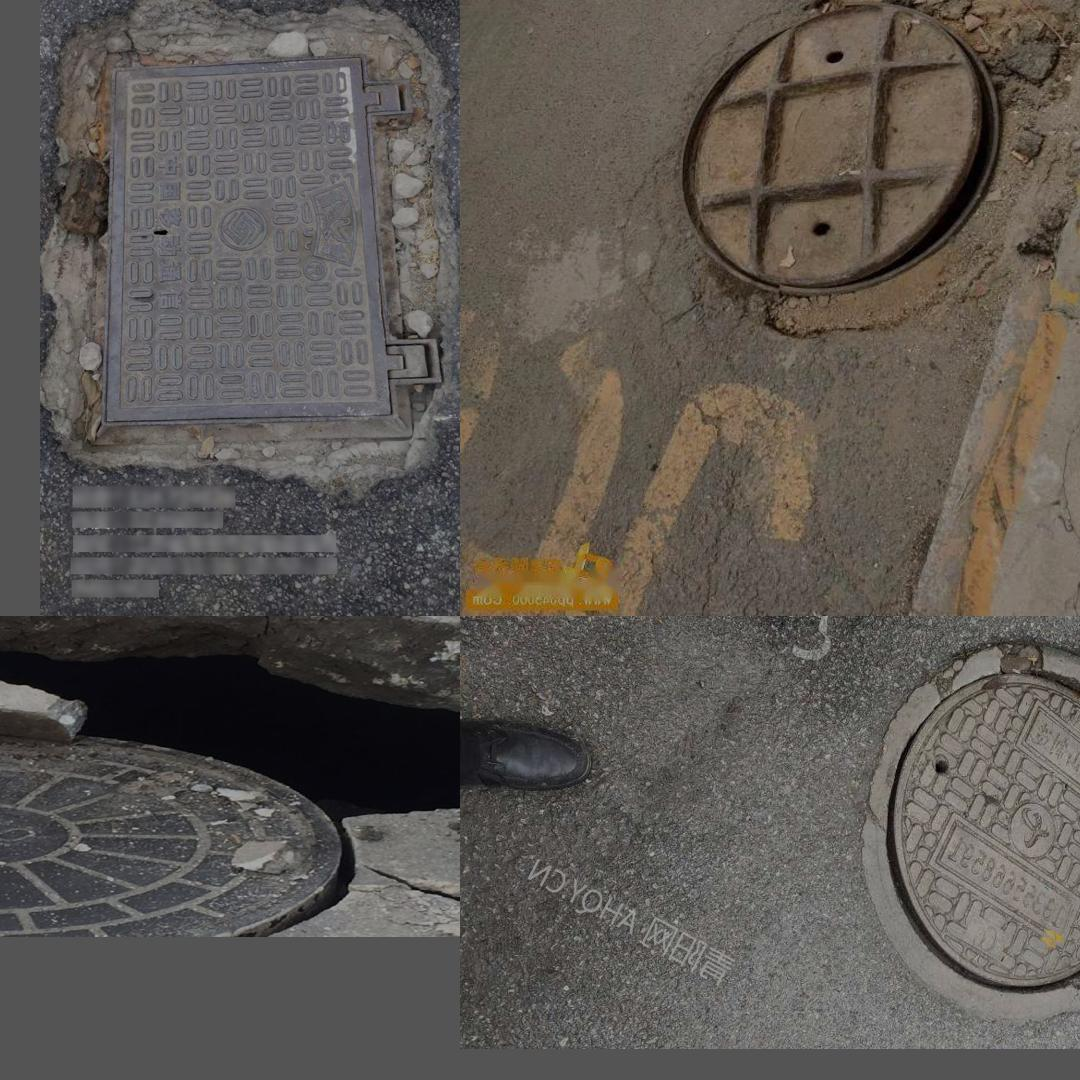circle: (60, 24, 446, 469), (627, 0, 1080, 363), (0, 628, 443, 933), (841, 640, 1080, 1018)
